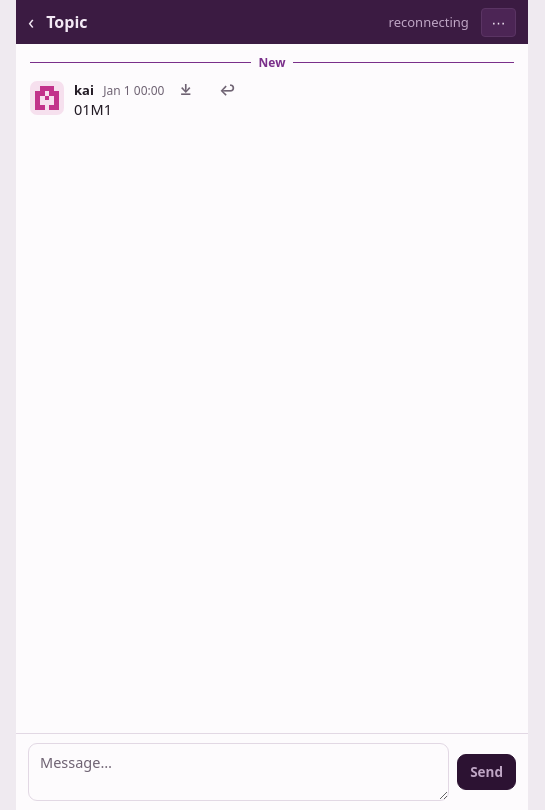
Test: a failed Pause shows in the room, and a Pause that works clears it
Click the button named "Menu": (498, 22) [481,8,516,36]
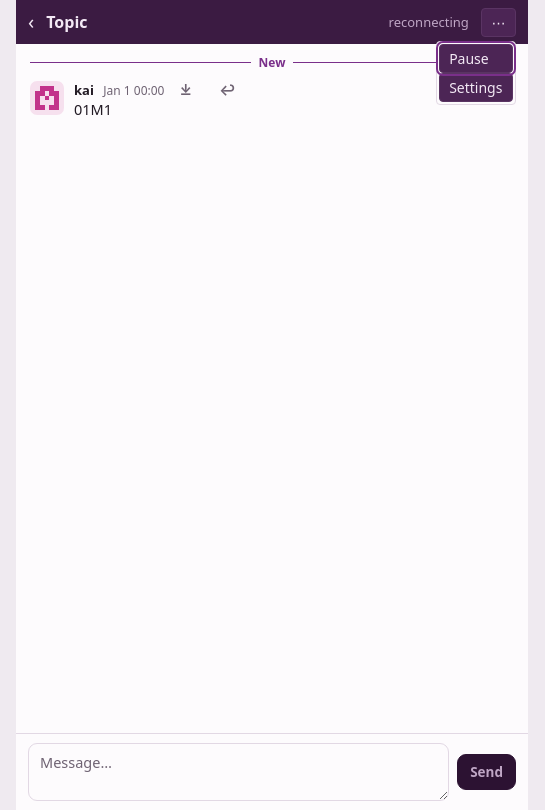
Click the menu item "Pause": (476, 58) [438,44,513,72]
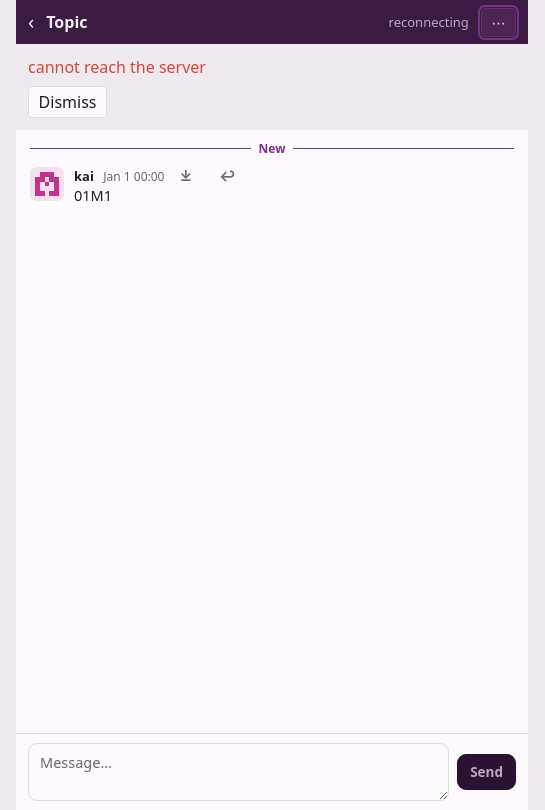
Expected: the message reads "cannot reach the server", [28,56,206,78]
Click the button named "Menu": (498, 22) [481,8,516,36]
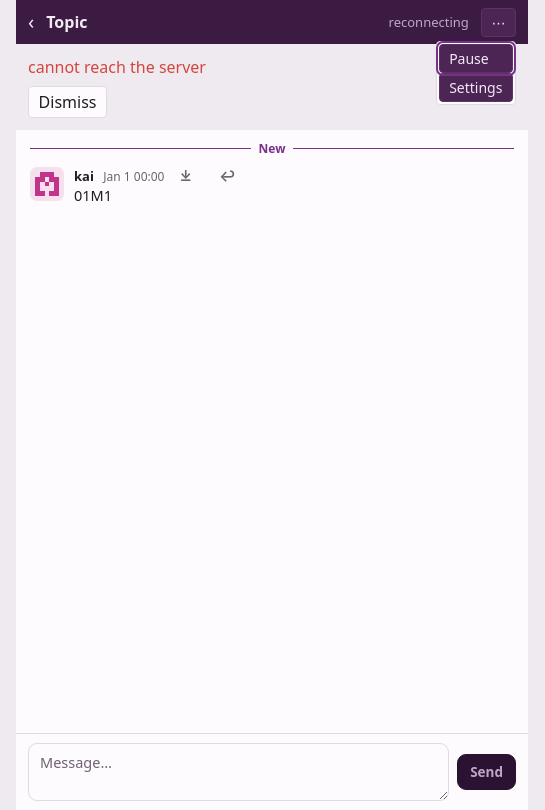
Click the menu item "Pause": (476, 58) [438,44,513,72]
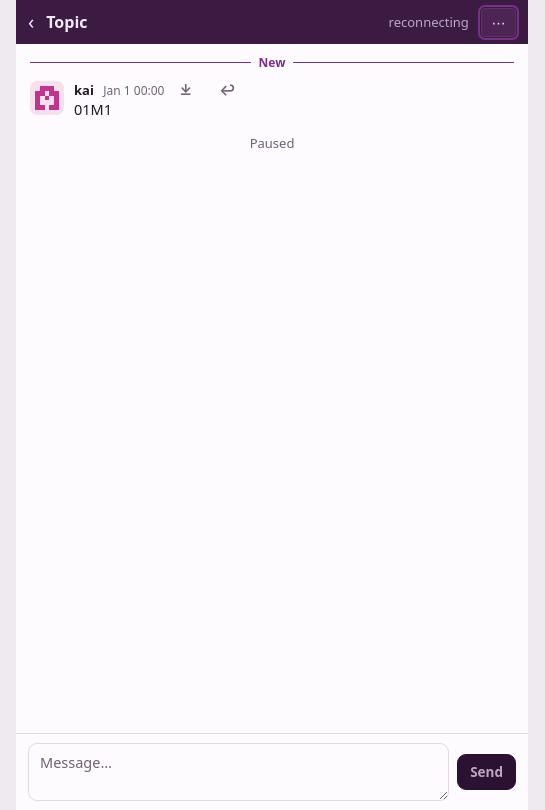
Expected: the message "cannot reach the server" is gone
